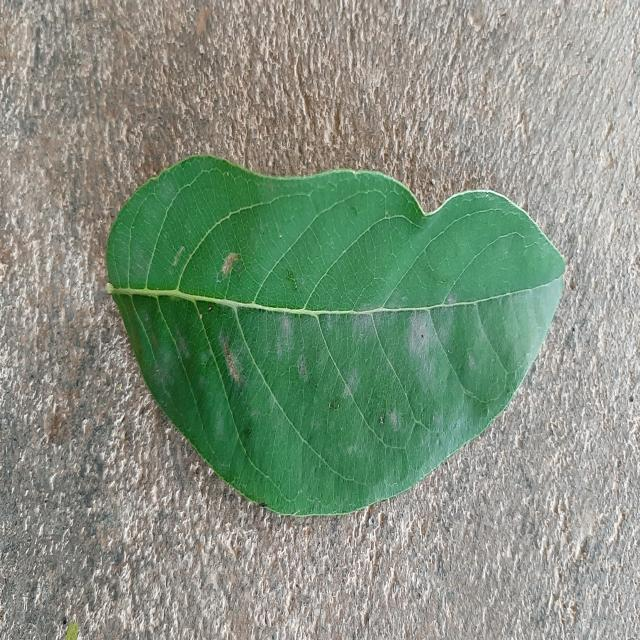seethaphala: (106, 157, 565, 515)
